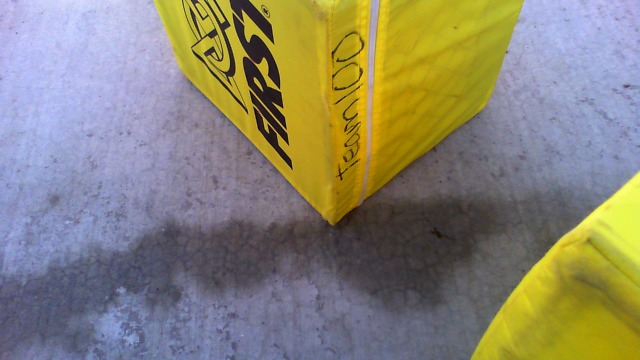cube: (149, 1, 525, 230), (469, 167, 640, 359)
